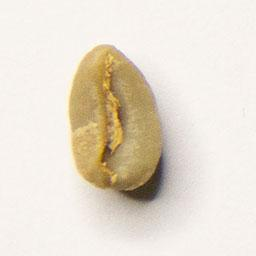longberry: (65, 40, 166, 195)
